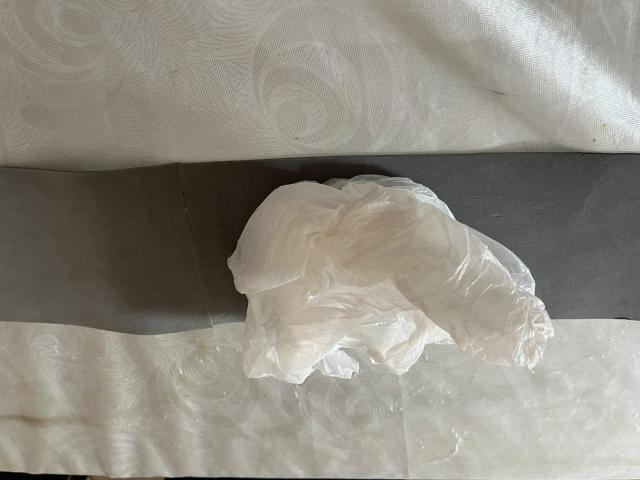LDPE: (166, 143, 612, 438)
